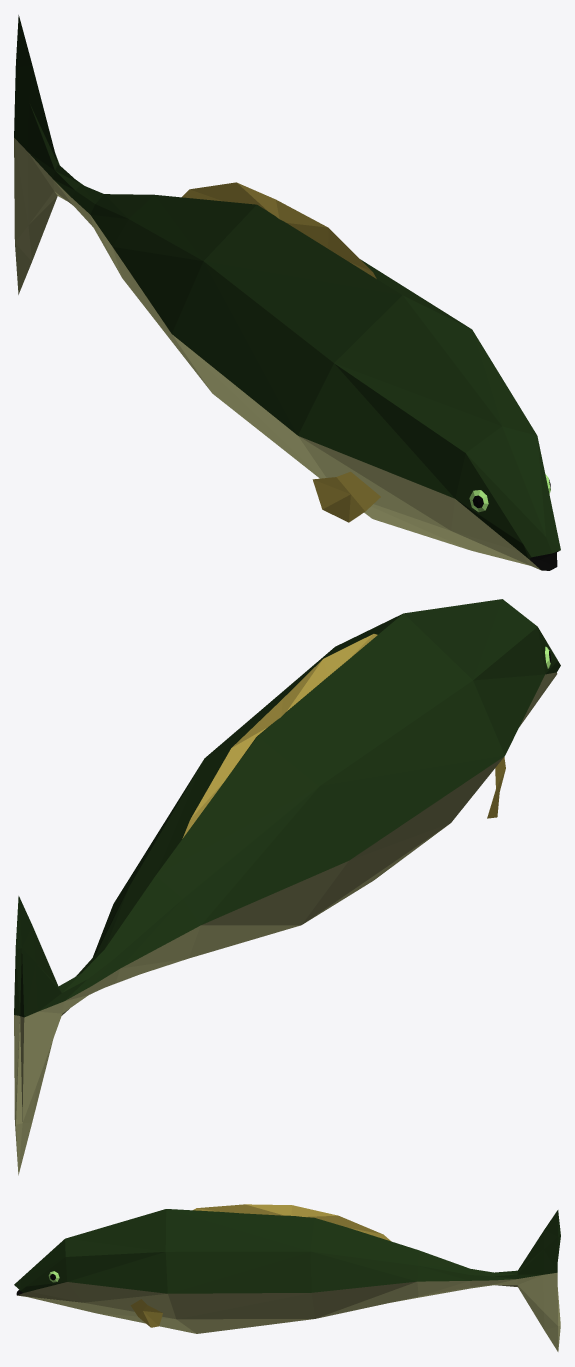
The model's file is Minnow_000018.obj.
The picture shows the model from 3 angles, top to bottom: view 1: azimuth 30°, elevation 25°; view 2: azimuth 150°, elevation 25°; view 3: azimuth 270°, elevation 25°; orthographic projection. The views are drawn at different scales.
Bounding box in the file's own units: 0.676 × 0.9146 × 3.05.
